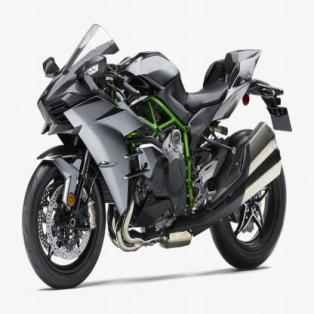Motocicleta: (17, 20, 300, 291)
